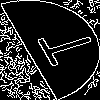T: (25, 25, 99, 71)
